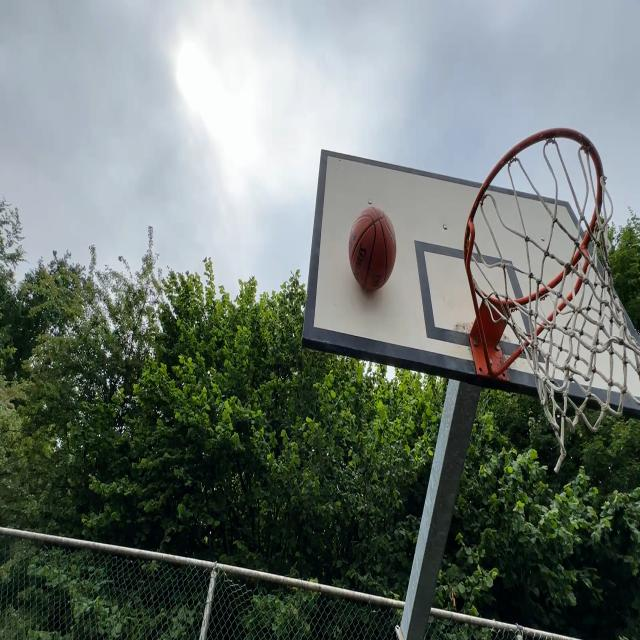rebound_hit: (347, 206, 397, 299)
